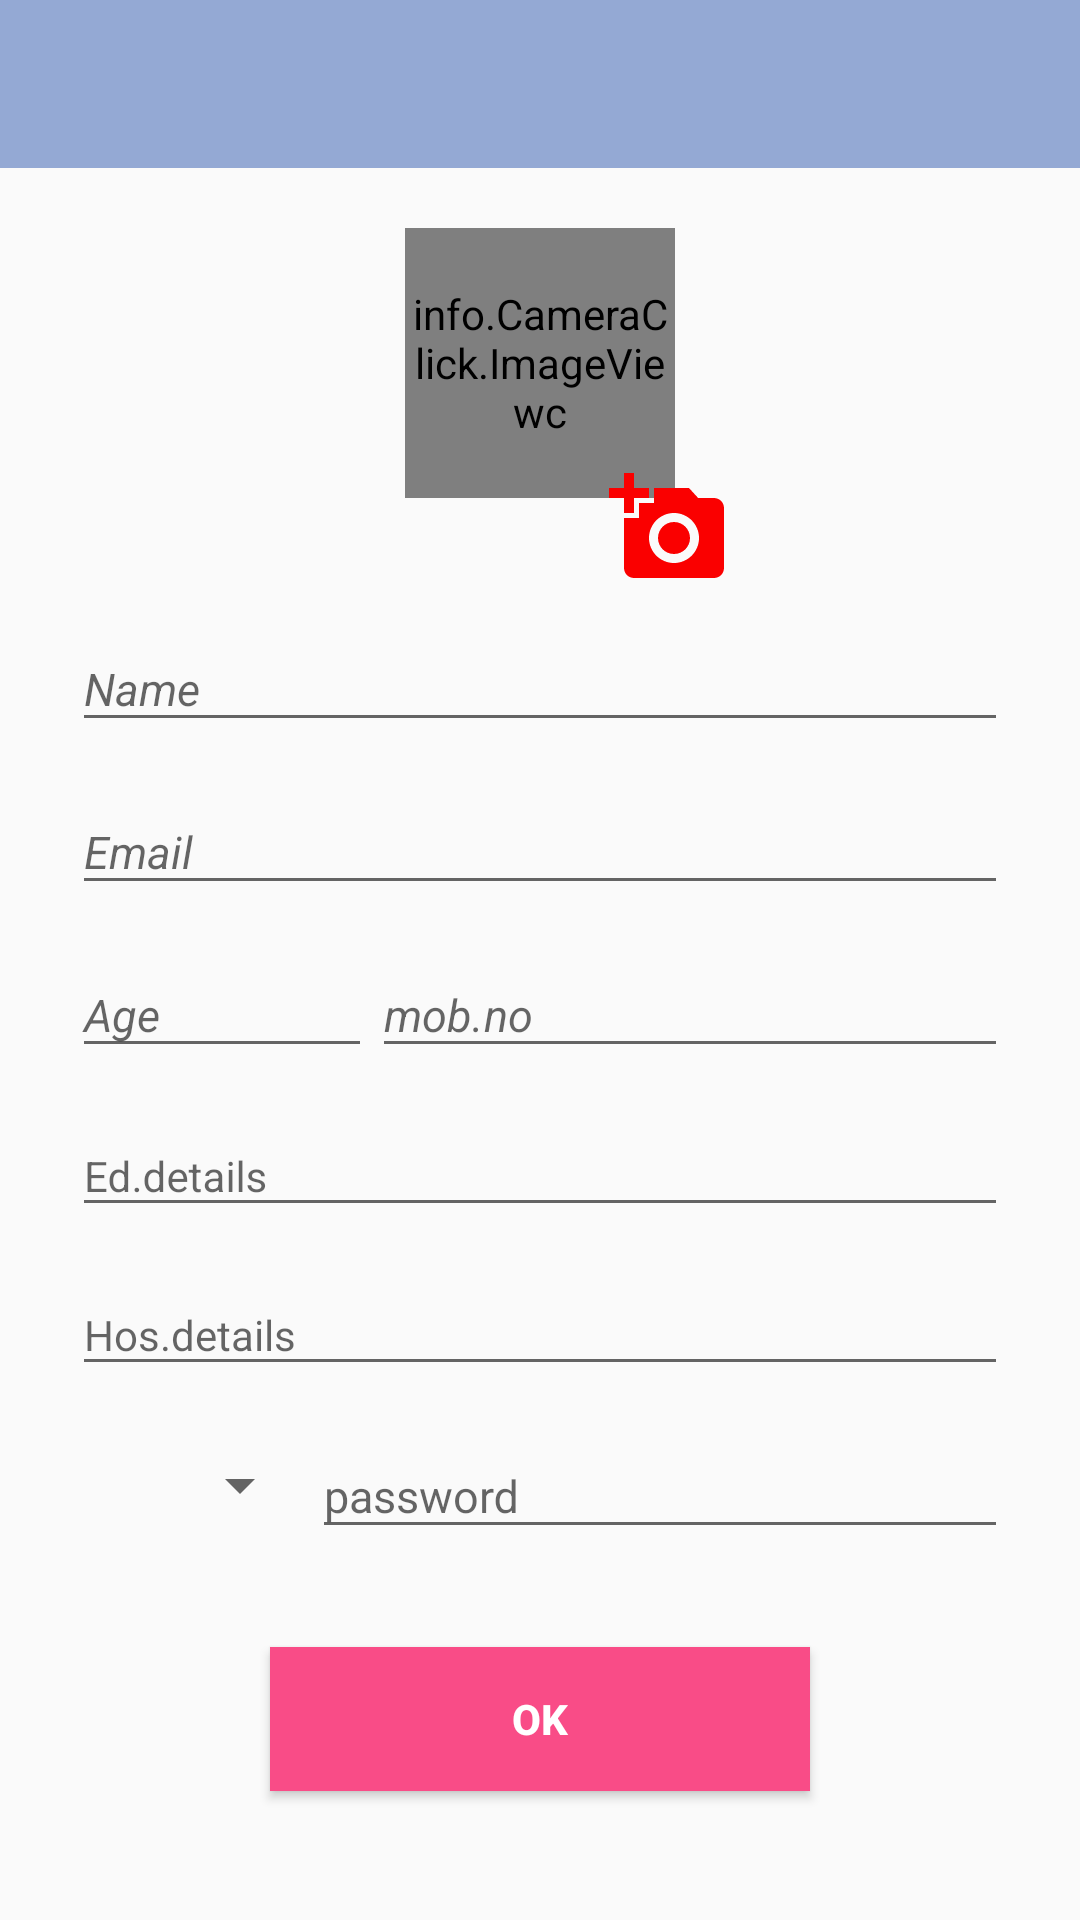

Icon bounding boxes for this 1080×1920 phone screenshot, format [x1,y1,x2,y2]:
add photo: [609,468,724,578]
